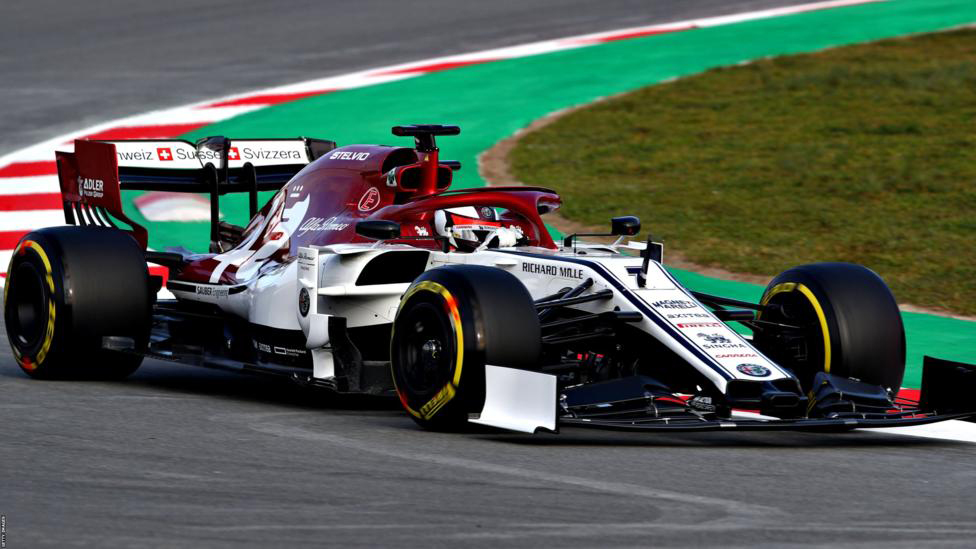F1 Car: (3, 120, 976, 447)
